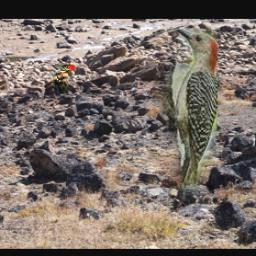Woodpecker: (154, 29, 219, 200), (51, 64, 76, 94)
